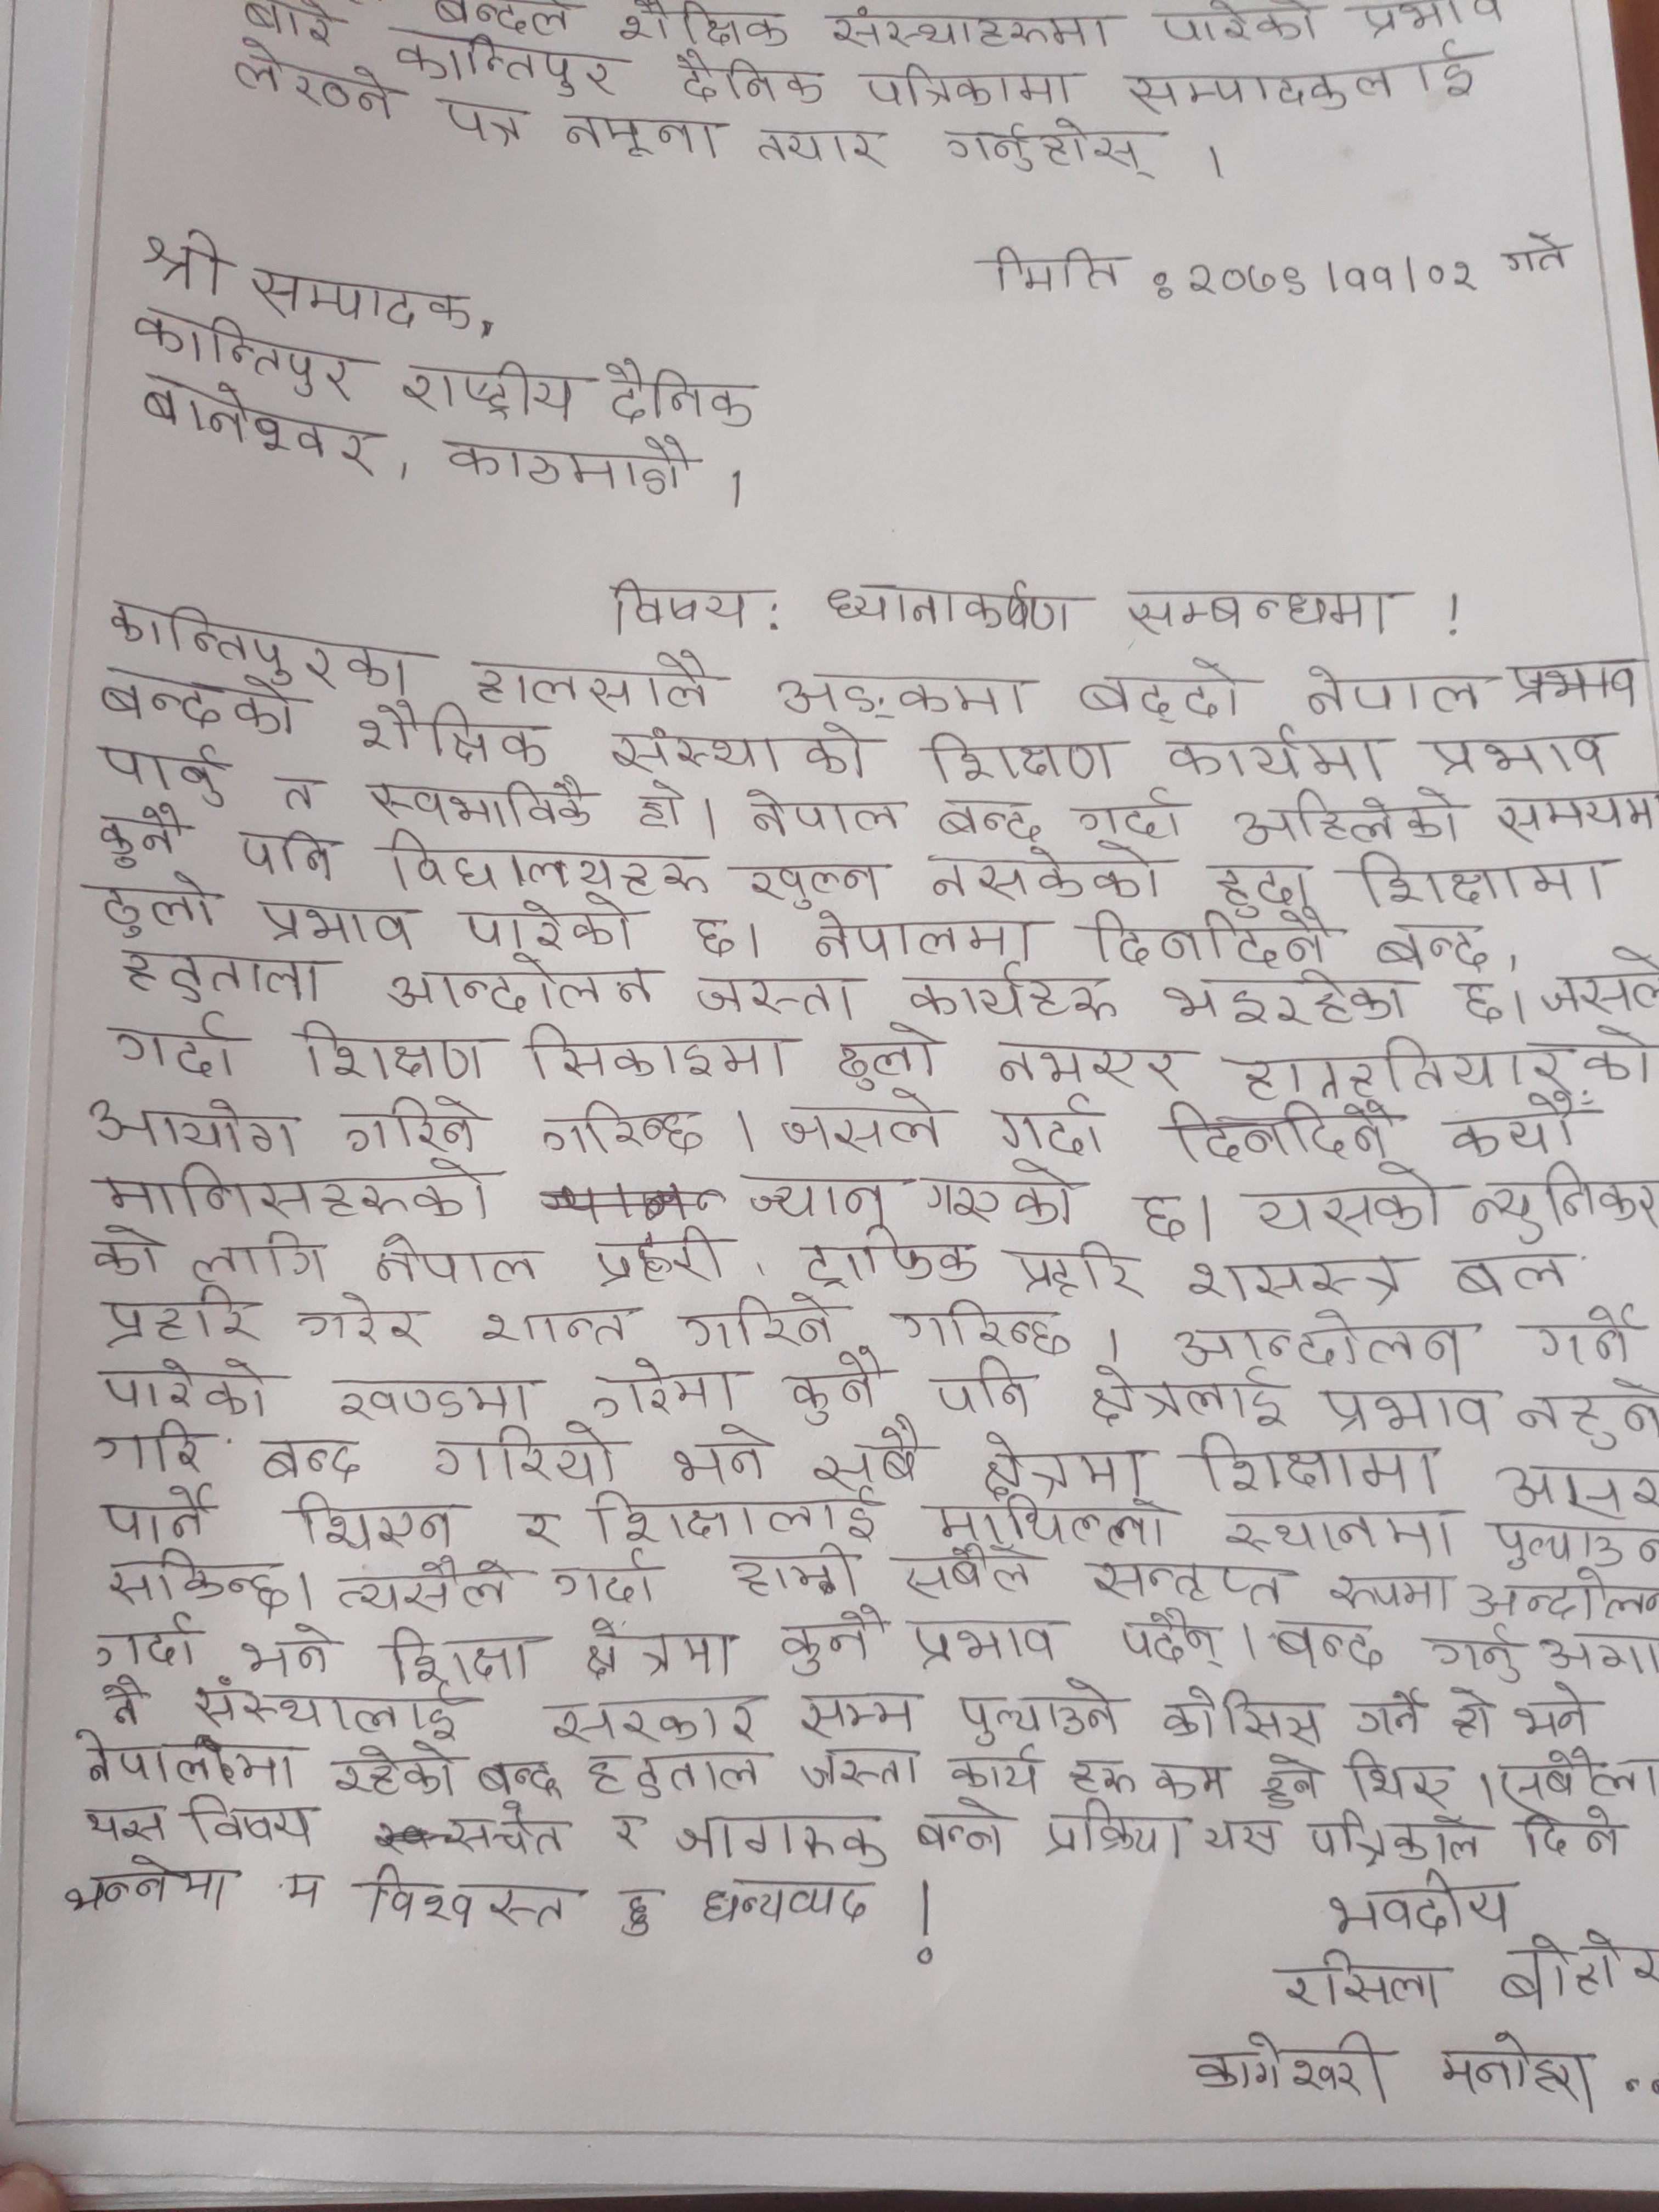text: (1230, 1024, 1659, 1104), (369, 822, 716, 918), (94, 1151, 498, 1231), (138, 378, 382, 482), (127, 298, 368, 402), (1119, 51, 1500, 115), (105, 601, 430, 676), (1178, 1426, 1445, 1510), (244, 256, 477, 347), (439, 421, 708, 500), (573, 1482, 890, 1548), (1169, 1313, 1485, 1378), (823, 571, 1091, 646), (598, 712, 871, 786), (518, 1015, 796, 1087), (382, 946, 653, 1017), (183, 1677, 476, 1743), (77, 1087, 326, 1162), (1121, 583, 1408, 648), (1155, 1092, 1406, 1165), (460, 646, 730, 714), (1345, 843, 1629, 907), (765, 664, 1053, 726), (1185, 246, 1483, 305), (913, 716, 1134, 794), (892, 958, 1134, 1029), (356, 765, 599, 834), (918, 841, 1175, 907), (382, 28, 622, 98), (1079, 906, 1338, 970), (1187, 2029, 1399, 2107), (396, 341, 586, 428), (934, 115, 1164, 186), (289, 1010, 498, 1089), (85, 669, 303, 744), (350, 697, 563, 773), (1323, 1865, 1528, 1944), (1159, 970, 1410, 1033), (1239, 1165, 1453, 1238), (807, 909, 1056, 972), (66, 1731, 310, 1794), (1230, 784, 1467, 848), (1473, 1155, 1659, 1237), (110, 941, 340, 1007), (352, 1865, 565, 1937), (223, 37, 401, 122), (976, 1028, 1190, 1097), (674, 1804, 894, 1872), (1176, 1244, 1420, 1305), (976, 1426, 1154, 1510), (1424, 2031, 1605, 2113), (1079, 1362, 1290, 1432), (1218, 1501, 1457, 1562), (89, 1552, 296, 1622), (889, 1291, 1091, 1362), (819, 5, 1126, 52), (1157, 732, 1403, 789), (450, 890, 647, 961), (369, 1801, 577, 1867), (1073, 655, 1256, 730), (361, 1223, 547, 1296), (427, 1421, 620, 1491), (920, 1500, 1185, 1550), (1497, 1930, 1659, 2012), (1154, 1674, 1335, 1747), (82, 1353, 284, 1418), (775, 1089, 957, 1160), (563, 1608, 735, 1683), (1269, 1952, 1464, 2019), (319, 1550, 519, 1615), (371, 1616, 561, 1684), (322, 1369, 540, 1428), (532, 1094, 711, 1165), (847, 56, 1087, 108), (603, 357, 767, 434), (915, 1151, 1082, 1226), (99, 1001, 244, 1087), (735, 775, 904, 846), (1490, 1449, 1659, 1521), (606, 568, 760, 646), (901, 1609, 1086, 1674), (1297, 662, 1492, 723), (559, 105, 734, 172), (1302, 1806, 1495, 1867), (687, 1871, 880, 1932), (1483, 1503, 1659, 1569), (54, 1853, 244, 1914), (577, 1747, 772, 1806), (282, 1493, 465, 1555), (978, 235, 1138, 307), (1492, 1738, 1659, 1806), (87, 1284, 263, 1348), (1509, 1374, 1659, 1449), (1079, 1548, 1286, 1602), (537, 1698, 774, 1745), (340, 1089, 491, 1162), (572, 1357, 751, 1418), (1424, 726, 1619, 782), (1476, 1568, 1659, 1627), (1443, 1090, 1608, 1155), (946, 1684, 1126, 1743), (669, 44, 830, 110), (795, 1230, 985, 1285), (586, 1223, 727, 1298), (1006, 1230, 1147, 1305), (673, 1292, 856, 1350), (737, 1169, 897, 1233), (96, 735, 230, 812), (1492, 780, 1659, 841), (254, 888, 416, 951), (92, 867, 223, 944), (678, 967, 868, 1019), (812, 1411, 924, 1500), (1197, 852, 1328, 927), (167, 1794, 322, 1857), (476, 1292, 645, 1350), (978, 1092, 1112, 1162), (1312, 1388, 1504, 1437), (333, 1735, 464, 1806), (1337, 1740, 1466, 1810), (748, 122, 894, 183), (1039, 1808, 1192, 1865), (92, 1479, 221, 1547), (894, 1538, 1033, 1601), (615, 2, 796, 49), (1450, 1240, 1575, 1308), (1535, 949, 1659, 1017), (793, 1684, 931, 1745), (662, 1418, 779, 1489), (78, 1615, 207, 1679), (1368, 914, 1504, 975), (918, 1355, 1040, 1423), (293, 1298, 436, 1355), (739, 859, 901, 909), (730, 1547, 875, 1602), (185, 1233, 333, 1287), (760, 1360, 880, 1426), (92, 1420, 218, 1482), (1112, 1609, 1234, 1674), (1527, 1299, 1642, 1367), (824, 1024, 939, 1090), (796, 1747, 927, 1804), (772, 1609, 885, 1676), (429, 85, 538, 153), (1534, 1630, 1659, 1689), (547, 1550, 664, 1613), (1152, 2, 1324, 44), (1429, 1622, 1532, 1691), (1274, 1609, 1387, 1672), (913, 1794, 1018, 1862), (235, 826, 347, 888), (134, 230, 242, 294), (92, 799, 193, 867), (1319, 1569, 1455, 1620), (1056, 794, 1197, 841), (927, 792, 1046, 848), (1516, 1804, 1629, 1862), (1507, 1679, 1600, 1745), (232, 1625, 343, 1679), (258, 1432, 364, 1487), (950, 1740, 1051, 1797), (434, 0, 579, 40), (75, 1219, 171, 1278), (1147, 1745, 1239, 1806), (474, 1752, 577, 1801), (1129, 1174, 1195, 1249), (1493, 223, 1570, 286), (1351, 1686, 1429, 1747), (1188, 1811, 1284, 1858), (75, 1801, 173, 1846), (1363, 3, 1518, 31), (1253, 1752, 1328, 1810), (1448, 968, 1516, 1031), (87, 1674, 160, 1731), (678, 904, 748, 961), (634, 768, 694, 834), (1063, 1749, 1143, 1797), (592, 1804, 650, 1872), (1445, 1688, 1502, 1747), (512, 1500, 572, 1554), (263, 763, 326, 813), (615, 1876, 664, 1940), (277, 1865, 338, 1911)
